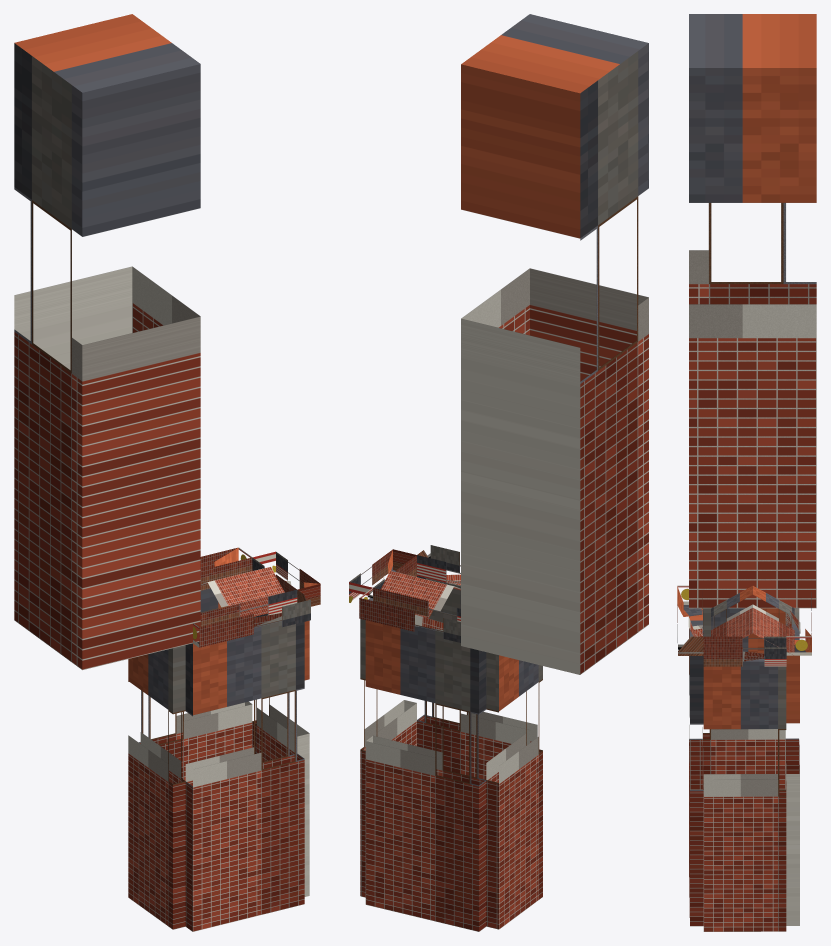
3 views of the same model, side by side, from view 1: azimuth 30°, elevation 25°; view 2: azimuth 150°, elevation 25°; view 3: azimuth 270°, elevation 25° (orthographic). The views are drawn at different scales.
Visible parts, largest first — view 1: 1107169984__chimney_0_xb, 1107169984__wall_1_xb, 1107169984__wall_2_xb, 1107169984__wall_3_xb, 1107169984__wall_0_xb, 1107169984__cornice_1, 1107169984_roof_-1_xb, 1107169984__cornice_3, 1107169984__cornice_0; view 2: 1107169984__chimney_0_xb, 1107169984__wall_3_xb, 1107169984__wall_2_xb, 1107169984__wall_1_xb, 1107169984__wall_0_xb, 1107169984__cornice_3, 1107169984_roof_1_xb, 1107169984__cornice_0, 1107169984__cornice_1; view 3: 1107169984__chimney_0_xb, 1107169984__wall_0_xb, 1107169984__wall_2_xb, 1107169984__wall_1_xb, 1107169984__wall_3_xb, 1107169984__cornice_0, 1107169984_roof_1_xb, 1107169984_roof_-1_xb, 1107169984__cornice_1, 1107169984__cornice_3.
Part boxes in pixels (bbox=[...]): 1107169984__chimney_0_xb: bbox=[14, 14, 200, 670]; 1107169984__wall_1_xb: bbox=[185, 616, 304, 931]; 1107169984__wall_2_xb: bbox=[128, 645, 185, 929]; 1107169984__wall_3_xb: bbox=[138, 588, 252, 780]; 1107169984__wall_0_xb: bbox=[252, 613, 309, 896]; 1107169984__cornice_1: bbox=[193, 589, 310, 647]; 1107169984_roof_-1_xb: bbox=[200, 566, 284, 616]; 1107169984__cornice_3: bbox=[200, 547, 252, 590]; 1107169984__cornice_0: bbox=[252, 551, 320, 606]; 1107169984__chimney_0_xb: bbox=[461, 14, 648, 674]; 1107169984__wall_3_xb: bbox=[365, 620, 486, 931]; 1107169984__wall_2_xb: bbox=[486, 652, 542, 929]; 1107169984__wall_1_xb: bbox=[417, 576, 537, 779]; 1107169984__wall_0_xb: bbox=[360, 576, 416, 897]; 1107169984__cornice_3: bbox=[359, 588, 460, 642]; 1107169984_roof_1_xb: bbox=[380, 571, 453, 618]; 1107169984__cornice_0: bbox=[349, 549, 416, 602]; 1107169984__cornice_1: bbox=[417, 545, 460, 585]; 1107169984__chimney_0_xb: bbox=[689, 14, 816, 608]; 1107169984__wall_0_xb: bbox=[703, 659, 786, 931]; 1107169984__wall_2_xb: bbox=[703, 608, 785, 789]; 1107169984__wall_1_xb: bbox=[689, 608, 703, 926]; 1107169984__wall_3_xb: bbox=[785, 608, 799, 925]; 1107169984__cornice_0: bbox=[703, 636, 786, 666]; 1107169984_roof_1_xb: bbox=[753, 586, 794, 655]; 1107169984_roof_-1_xb: bbox=[711, 586, 752, 641]; 1107169984__cornice_1: bbox=[677, 585, 703, 655]; 1107169984__cornice_3: bbox=[786, 592, 811, 655].
Size of the model in its own units: 0.3123 by 1.05 by 0.1639.
Materials: 1 (1 with a texture image).
